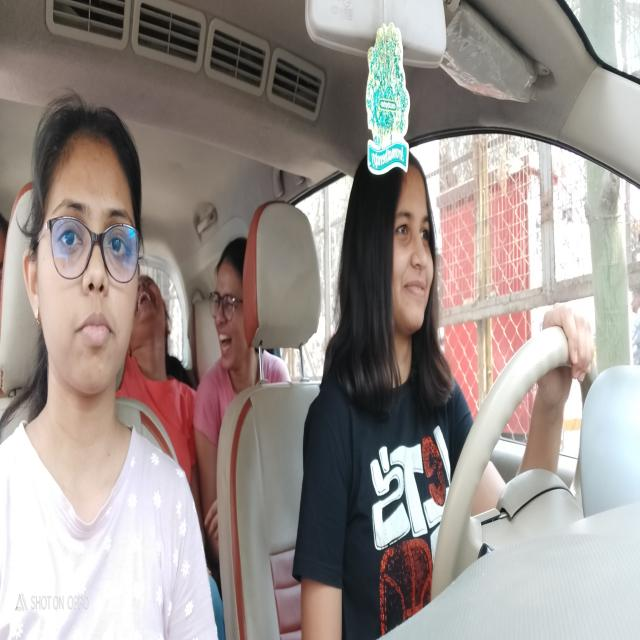person: (25, 88, 145, 447), (342, 140, 447, 375), (208, 236, 260, 390), (140, 268, 184, 413)
